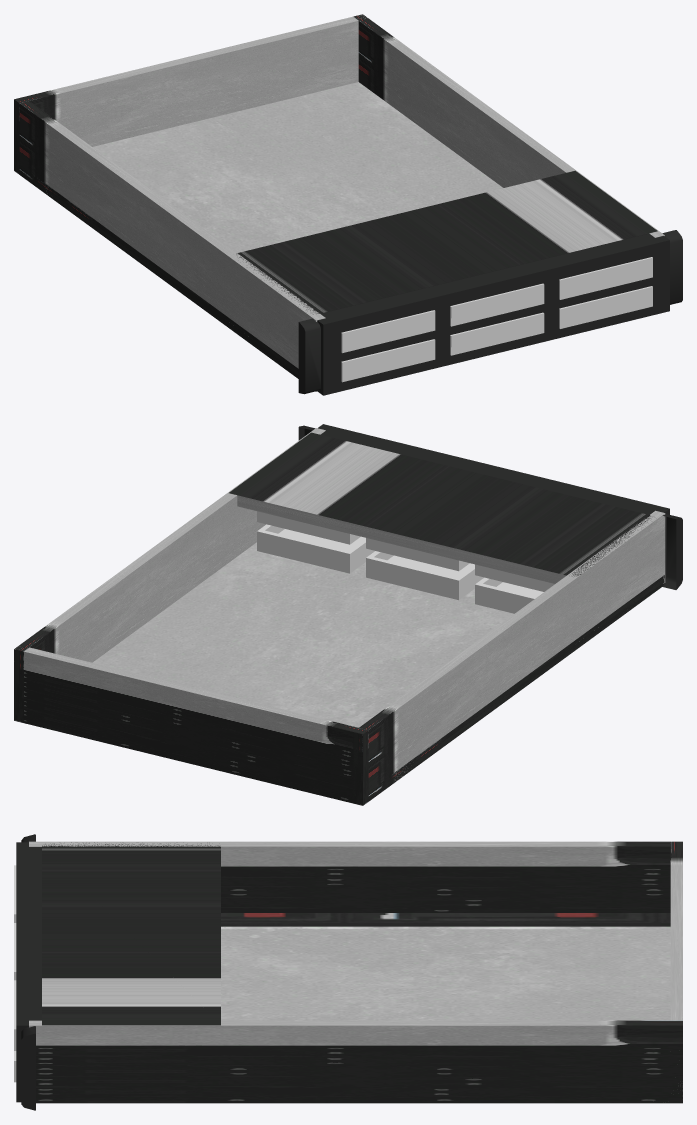
File: serverbox.fbx
3 renders of one model, top to bottom at view 1: azimuth 30°, elevation 25°; view 2: azimuth 150°, elevation 25°; view 3: azimuth 270°, elevation 25°, orthographic. The views are drawn at different scales.
Parts seen in each view (by area): view 1: Cube, Cube.003, Cube.002, Cube.001, Cube.007, Cube.004, Cube.012; view 2: Cube, Cube.003, Cube.004, Cube.002, Cube.012, Cube.007, Cube.001; view 3: Cube.
Boxes of the visible parts, <box> form: Cube: <box>14,14,682,395</box>; Cube.003: <box>450,312,544,355</box>; Cube.002: <box>341,339,435,382</box>; Cube.001: <box>341,310,435,353</box>; Cube.007: <box>450,283,544,326</box>; Cube.004: <box>559,286,652,328</box>; Cube.012: <box>559,257,652,299</box>; Cube: <box>14,424,682,805</box>; Cube.003: <box>366,551,483,600</box>; Cube.004: <box>257,524,374,573</box>; Cube.002: <box>475,577,543,613</box>; Cube.012: <box>257,511,360,544</box>; Cube.007: <box>366,538,469,571</box>; Cube.001: <box>475,564,554,591</box>; Cube: <box>16,834,682,1110</box>.
Size of the model in its own units: 48.53 by 8.79 by 68.81.
